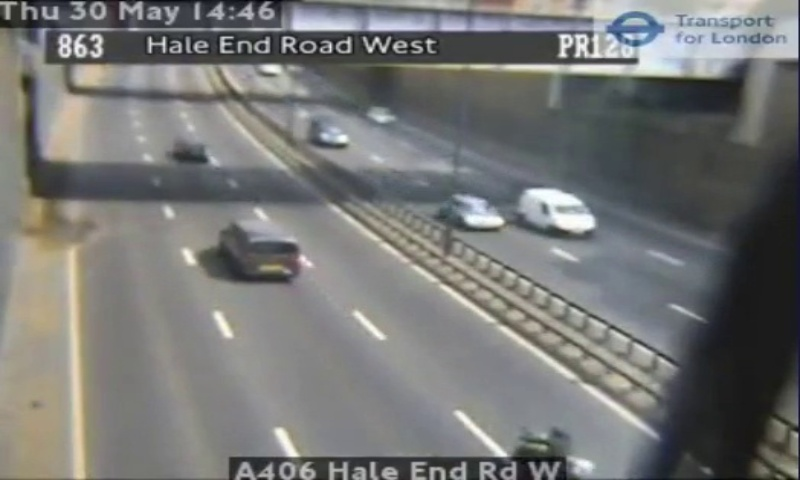van: (222, 219, 299, 277)
